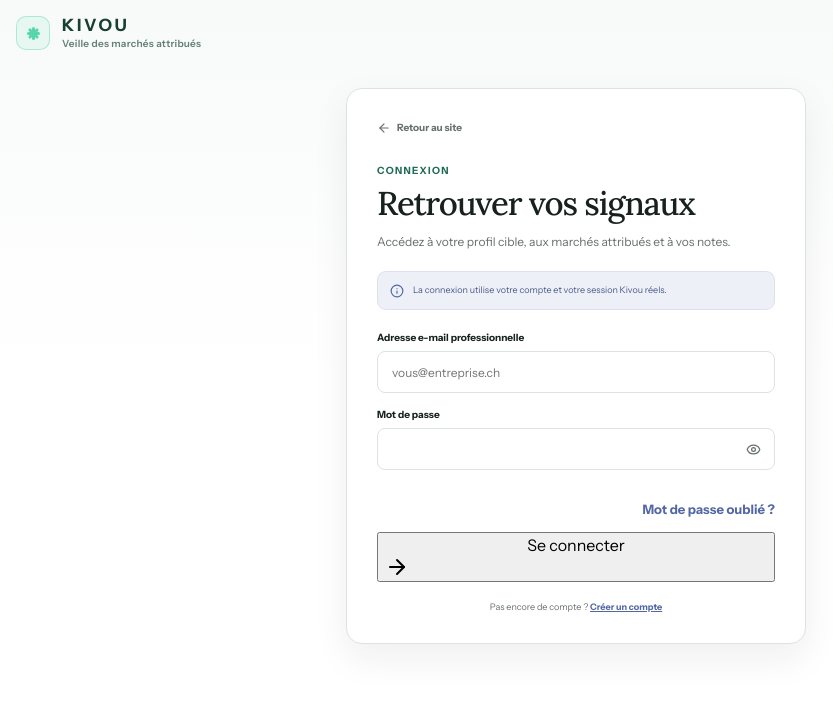
Test case: connexion › affiche un échec générique qui ne révèle pas l’existence du compte
Type "inconnu@acme.test" into the field labelled "Adresse e-mail professionnelle" at (576, 372), box left=377, top=351, right=775, bottom=393
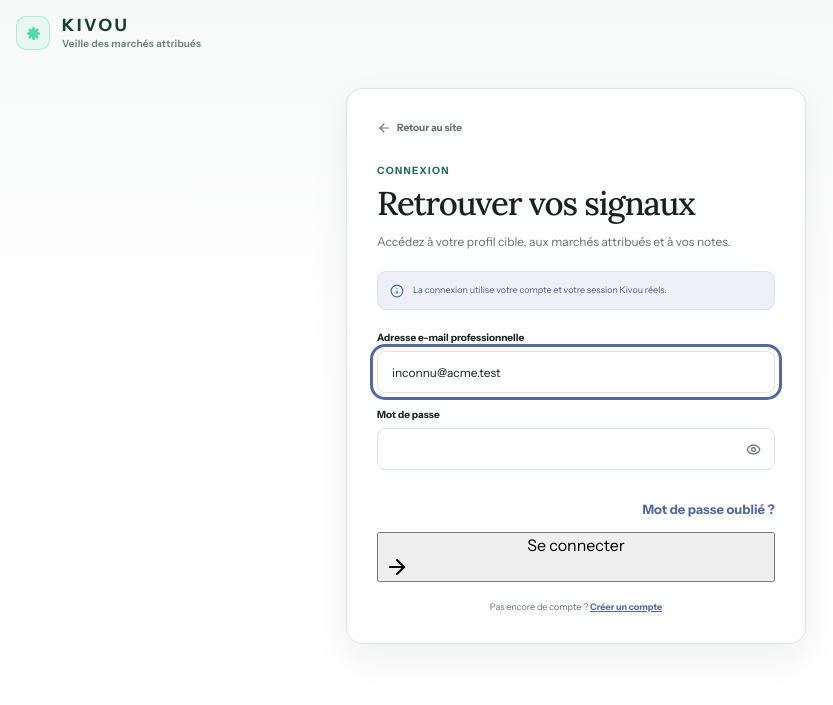
Type "motdepassesolide" into the password field labelled "Mot de passe" at (576, 449), box left=377, top=428, right=775, bottom=470
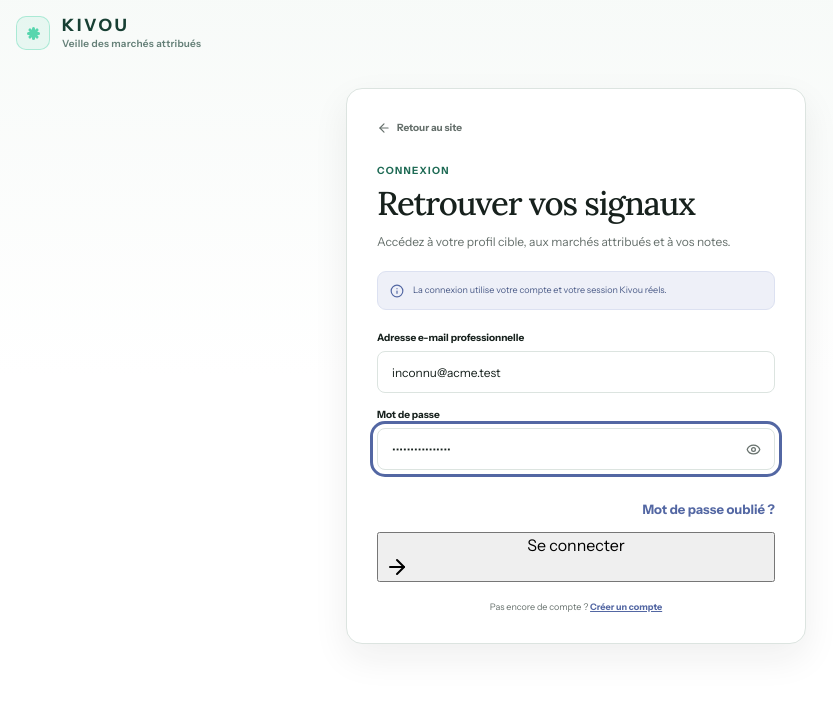
Click the button "Se connecter" at (576, 557), box left=377, top=532, right=775, bottom=582
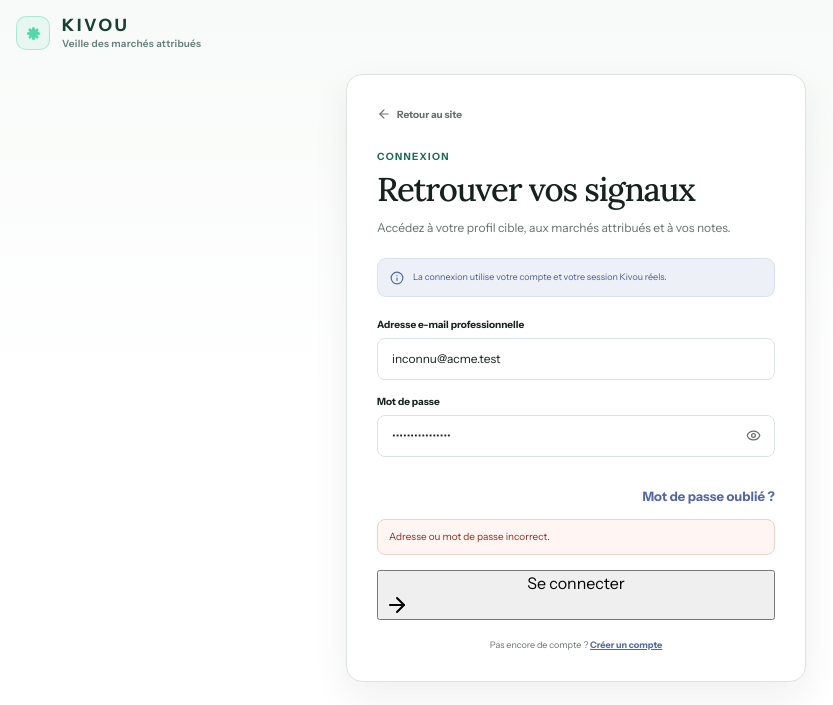
Expected: the message does not show "undefined", left=377, top=518, right=775, bottom=555
Expected: the message reads "Adresse ou mot de passe incorrect.", left=389, top=530, right=550, bottom=542
